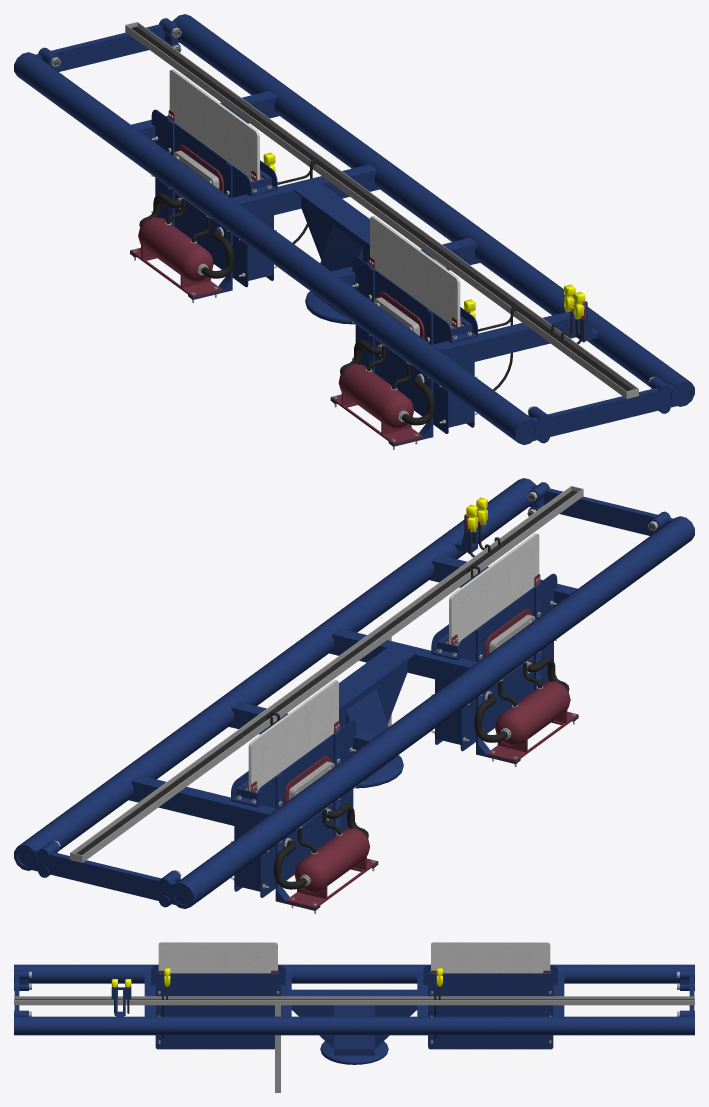
File: Trim Section (Retractable with start sensor).dae
3 renders of one model, top to bottom at view 1: azimuth 30°, elevation 25°; view 2: azimuth 150°, elevation 25°; view 3: azimuth 270°, elevation 25°, orthographic. The views are drawn at different scales.
Visible parts, largest first — view 1: Track (×8), Mid_Detail (×4), High_Detail (×5), Fins (×2); view 2: Track (×8), Mid_Detail (×4), High_Detail (×5), Fins (×2); view 3: Track (×6), Mid_Detail (×4), Fins (×2), High_Detail (×2).
Boxes of the visible parts, x1,y1,x2,y2 form: Track (×8): [14, 14, 694, 444]; Mid_Detail (×4): [125, 22, 638, 433]; High_Detail (×5): [130, 26, 632, 444]; Fins (×2): [169, 69, 460, 326]; Track (×8): [14, 478, 694, 908]; Mid_Detail (×4): [70, 486, 583, 897]; High_Detail (×5): [76, 490, 578, 908]; Fins (×2): [248, 533, 539, 790]; Track (×6): [14, 964, 694, 1064]; Mid_Detail (×4): [14, 964, 694, 1092]; Fins (×2): [158, 942, 550, 973]; High_Detail (×2): [14, 987, 694, 1016].
Bounding box in the file's own units: 41.69 × 197 × 40.18.
Materials: 12 (6 with a texture image).
